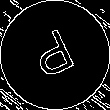P_SE: (28, 24, 82, 86)
